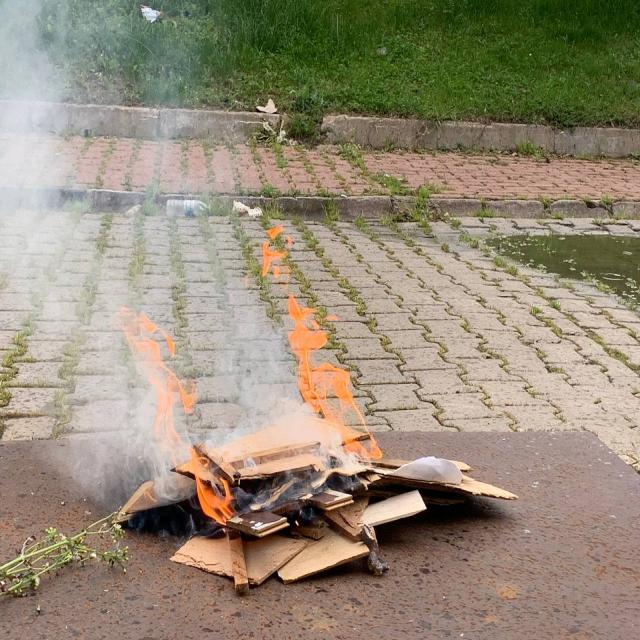fire: (262, 220, 407, 492), (96, 287, 226, 524)
